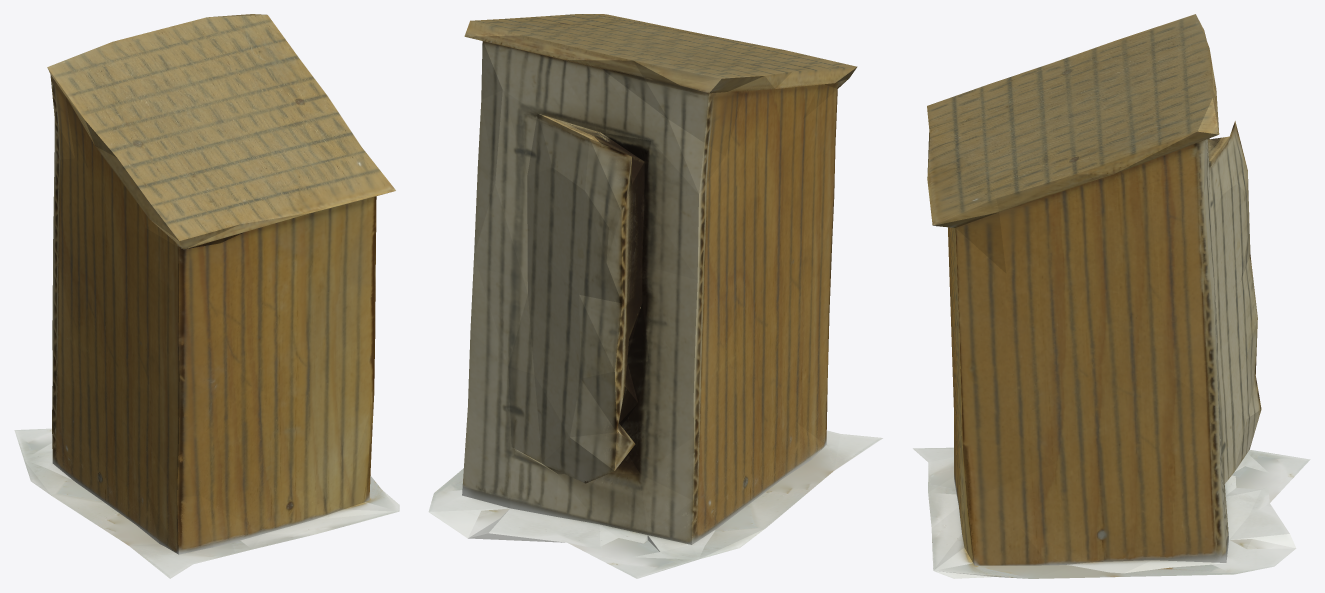
Rendered from mdl_bat_ete_48.fbx.
3 views of the same model, side by side, from view 1: azimuth 30°, elevation 25°; view 2: azimuth 150°, elevation 25°; view 3: azimuth 270°, elevation 25° (orthographic). The views are drawn at different scales.
Parts seen in each view (by area): view 1: mdl_bat_ete_48; view 2: mdl_bat_ete_48; view 3: mdl_bat_ete_48.
Part boxes in pixels (x1,y1,x2,y2): mdl_bat_ete_48: (14, 14, 399, 578); mdl_bat_ete_48: (428, 14, 882, 578); mdl_bat_ete_48: (913, 14, 1310, 578).
Bounding box in the file's own units: 3.52 × 5.46 × 4.34.
Materials: 1 (1 with a texture image).
